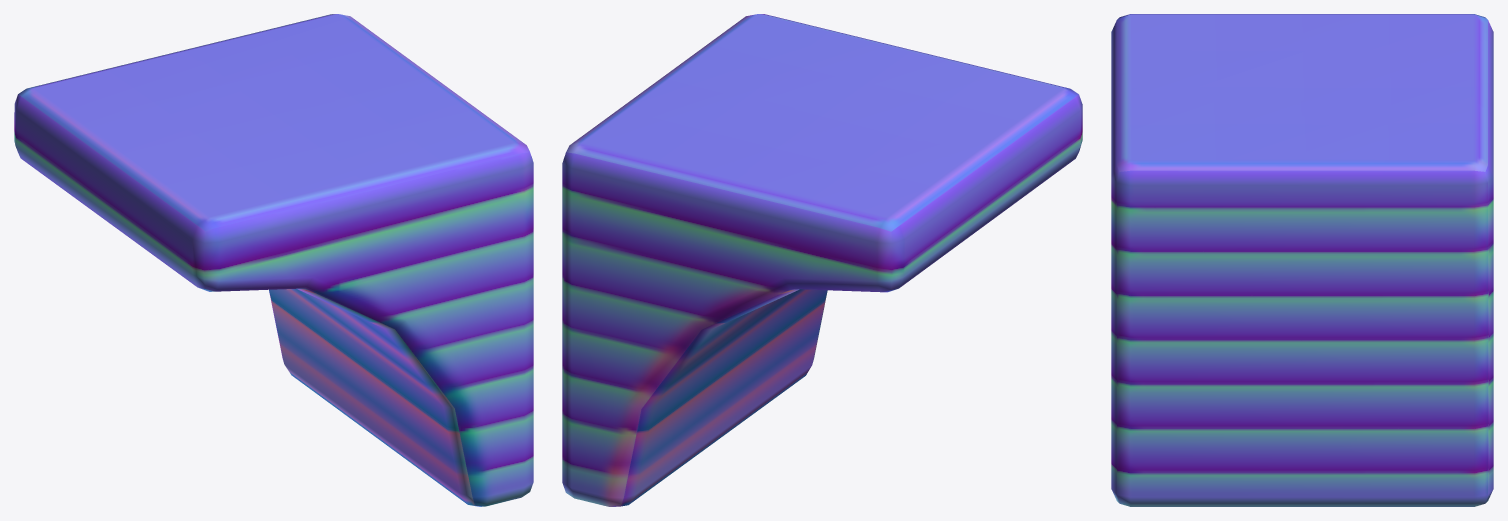
Rendered from BG_SimpleBlock8.fbx.
3 renders of one model, left to right at view 1: azimuth 30°, elevation 25°; view 2: azimuth 150°, elevation 25°; view 3: azimuth 270°, elevation 25°, orthographic. The views are drawn at different scales.
Parts seen in each view (by area): view 1: SimpleBlock8; view 2: SimpleBlock8; view 3: SimpleBlock8.
Boxes of the visible parts, x1,y1,x2,y2 form: SimpleBlock8: (14, 14, 533, 506); SimpleBlock8: (562, 14, 1082, 506); SimpleBlock8: (1111, 14, 1493, 506).
Size of the model in its own units: 8 by 8 by 8.
